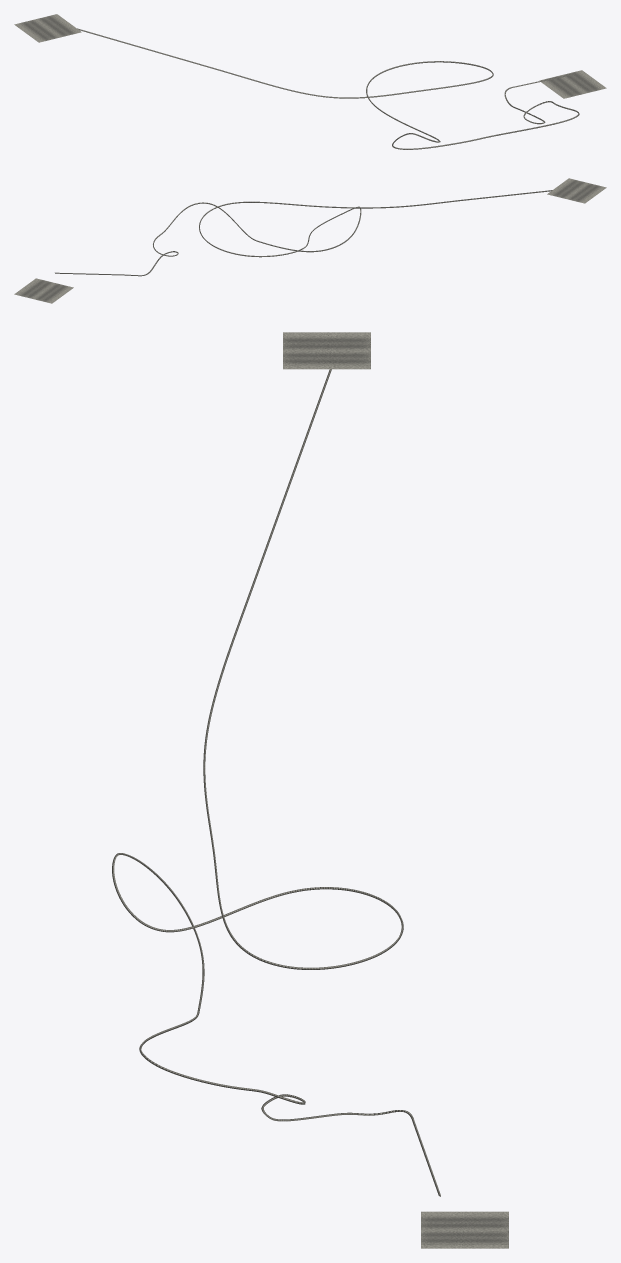
File: surfing_map.obj
The picture shows the model from 3 angles, top to bottom: view 1: azimuth 30°, elevation 25°; view 2: azimuth 150°, elevation 25°; view 3: azimuth 270°, elevation 25°; orthographic projection. The views are drawn at different scales.
Visible parts, largest first — view 1: Plane; view 2: Plane; view 3: Plane.
Part boxes in pixels (x1,y1,x2,y2): Plane: (14, 14, 606, 149); Plane: (14, 178, 606, 303); Plane: (112, 332, 508, 1248).
Size of the model in its own units: 116 by 40.43 by 37.03.
Materials: 1 (1 with a texture image).
